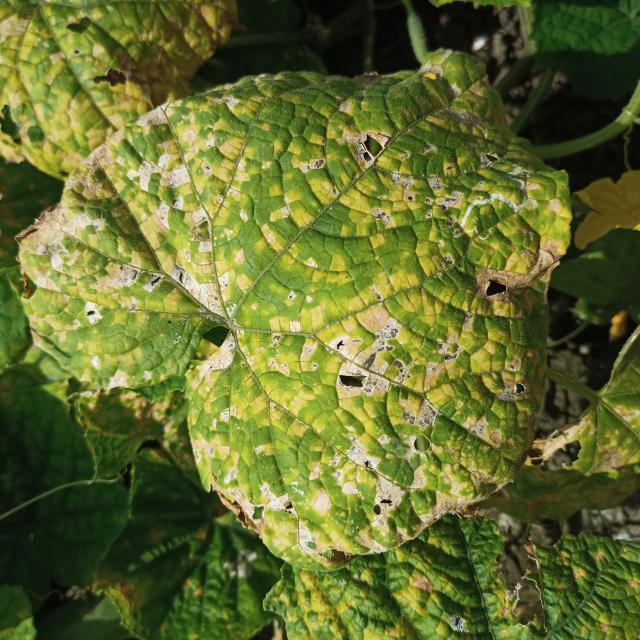disease_cucumber: (25, 45, 576, 542), (0, 0, 234, 160), (456, 164, 526, 243)
